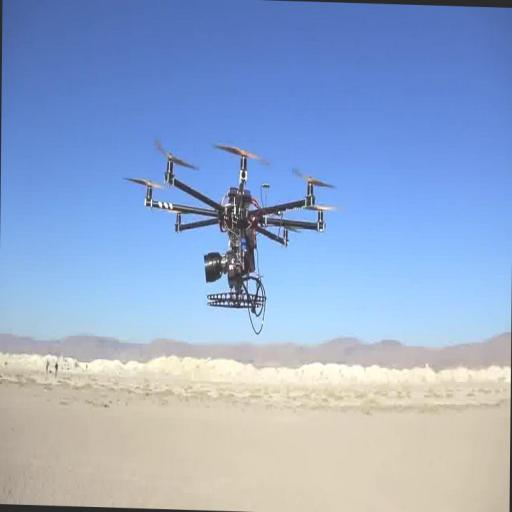drone: (138, 136, 335, 315)
